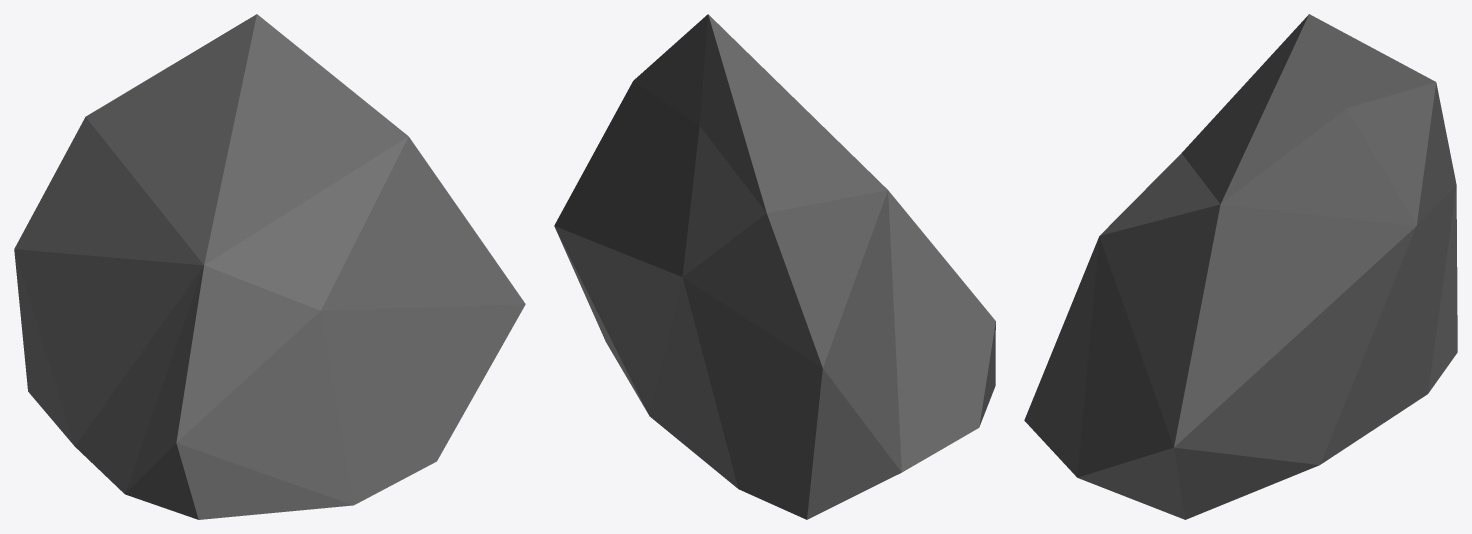
Rendered from Rock_1_13.fbx.
3 renders of one model, left to right at view 1: azimuth 30°, elevation 25°; view 2: azimuth 150°, elevation 25°; view 3: azimuth 270°, elevation 25°, orthographic. The views are drawn at different scales.
Visible parts, largest first — view 1: Rock_1_13; view 2: Rock_1_13; view 3: Rock_1_13.
Boxes of the visible parts, box(x1,y1,x2,y2) form: Rock_1_13: box(14, 14, 525, 519); Rock_1_13: box(554, 14, 995, 519); Rock_1_13: box(1024, 14, 1457, 519).
Bounding box in the file's own units: 88.21 × 81.59 × 75.55.
